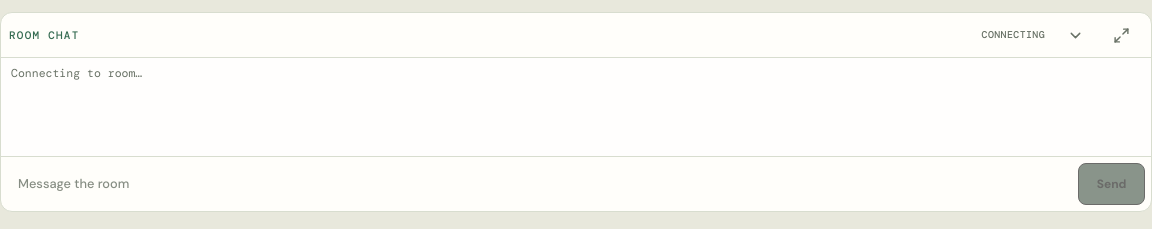
Test: RoomChatPanel message polling › keeps delivery uncertain after a network error
This screenshot has width=1152, height=229.
Type "Can anyone hear me?" into the field labelled "Message the room" at (540, 184), box [7, 163, 1072, 205]
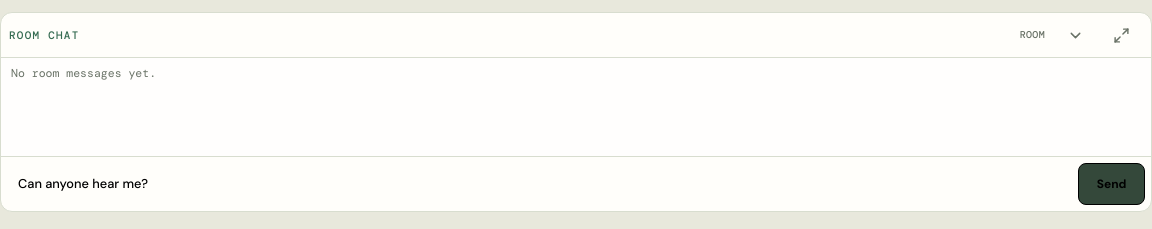
Submit the form named "Message the room", box [1, 156, 1151, 211]
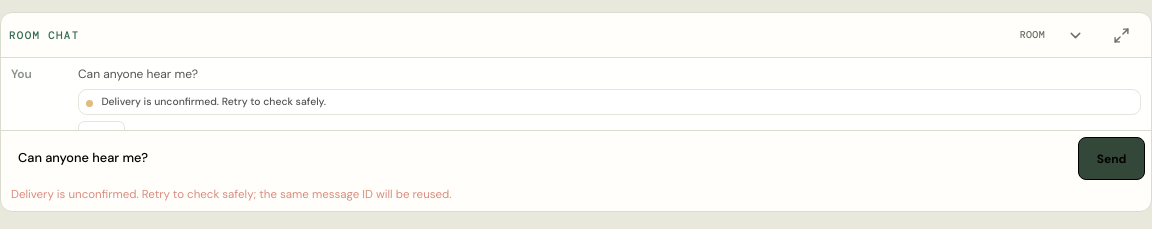
Check: the text "Delivery is unconfirmed. Retry to check safely; the same message ID will be reused." is shown, box [11, 187, 452, 202]
